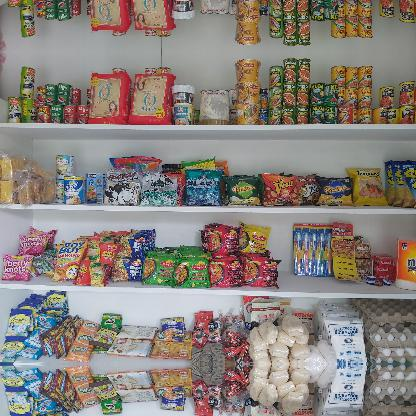Lady-s-Choice: (198, 94, 230, 124), (198, 0, 231, 11)
